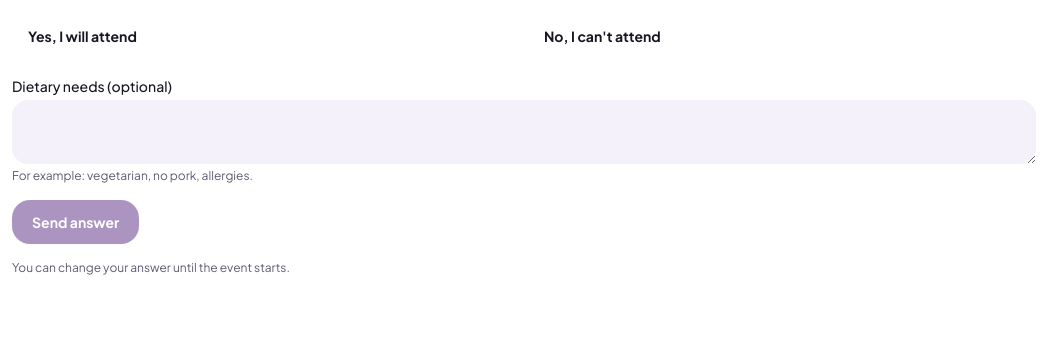
Test: RsvpForm › sends the answer with the dietary note and confirms
Click the radio button labelled "Yes, I will attend": (82, 36) [12, 12, 520, 60]
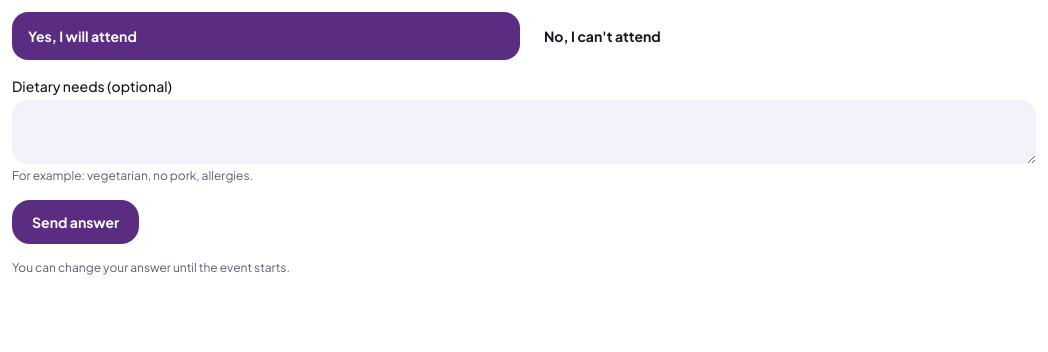
In the text box labelled "Dietary needs (optional)": (524, 132) [12, 100, 1036, 164], type " No pork "
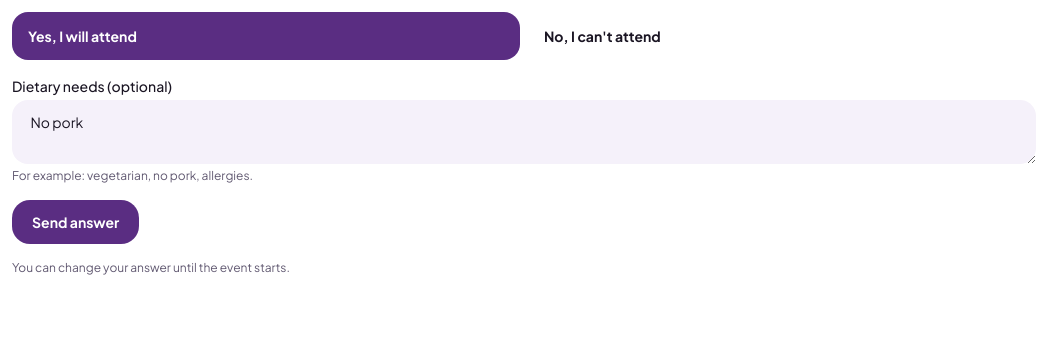
Click the button "Send answer": (76, 222) [12, 200, 139, 244]
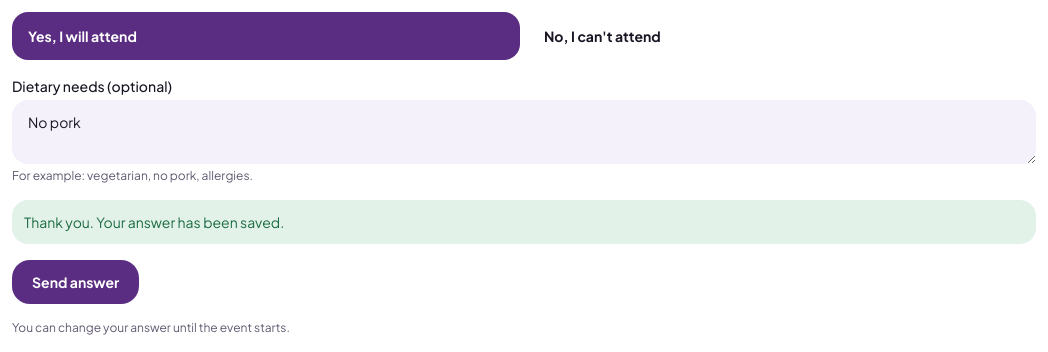
Now the text "Thank you. Your answer has been saved." is shown, box [12, 200, 1036, 244]
